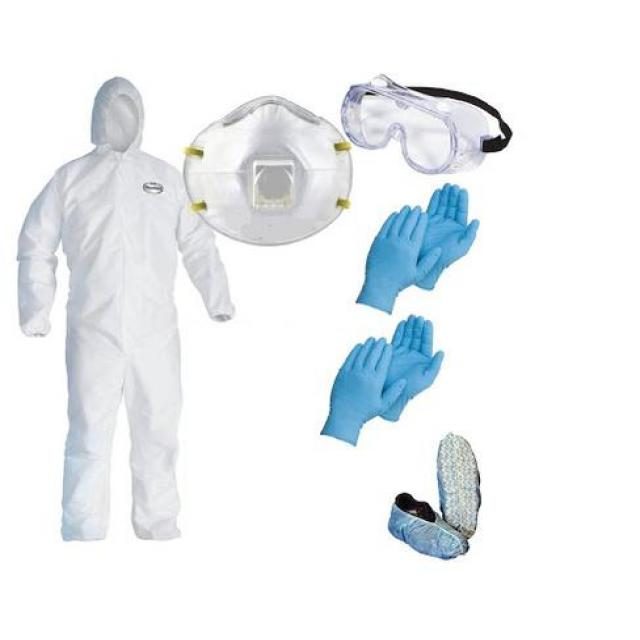Gloves: (352, 182, 478, 314), (320, 313, 443, 443)
Goggles: (341, 72, 511, 172)
